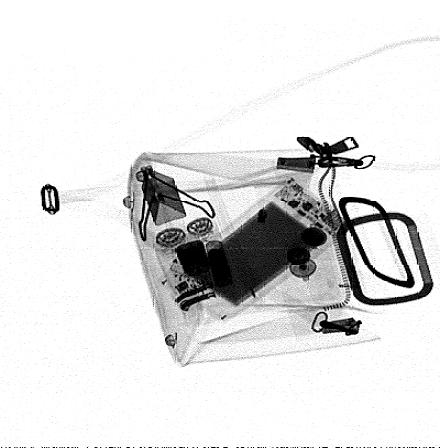Powerbank: (156, 177, 354, 324)
